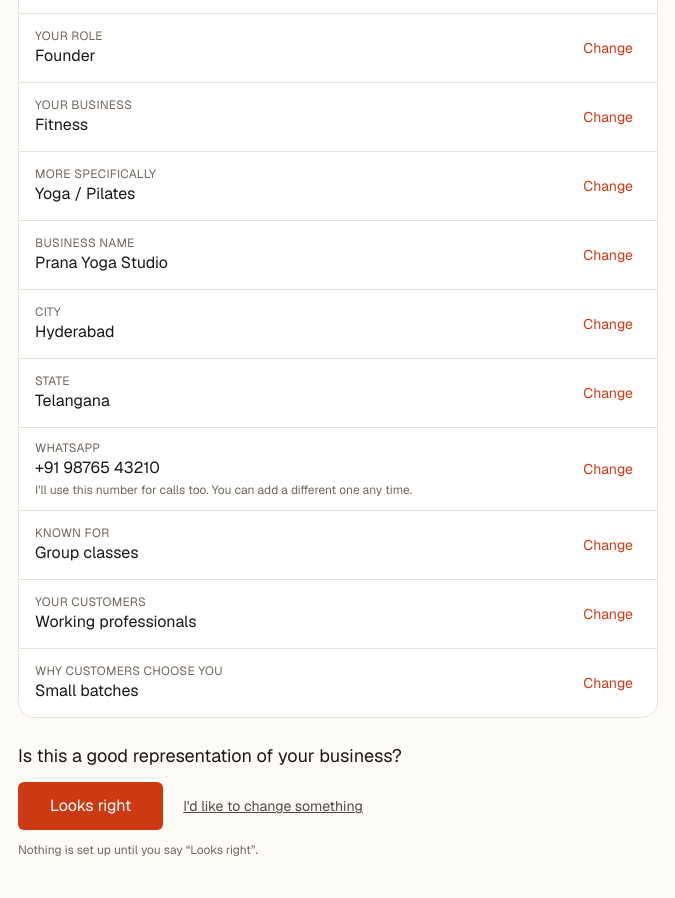
Scenario: review and confirm › when confirming fails › never shows a raw technical error
(page scrolled)
Click the button "Looks right" at (91, 806), box [18,782,163,830]
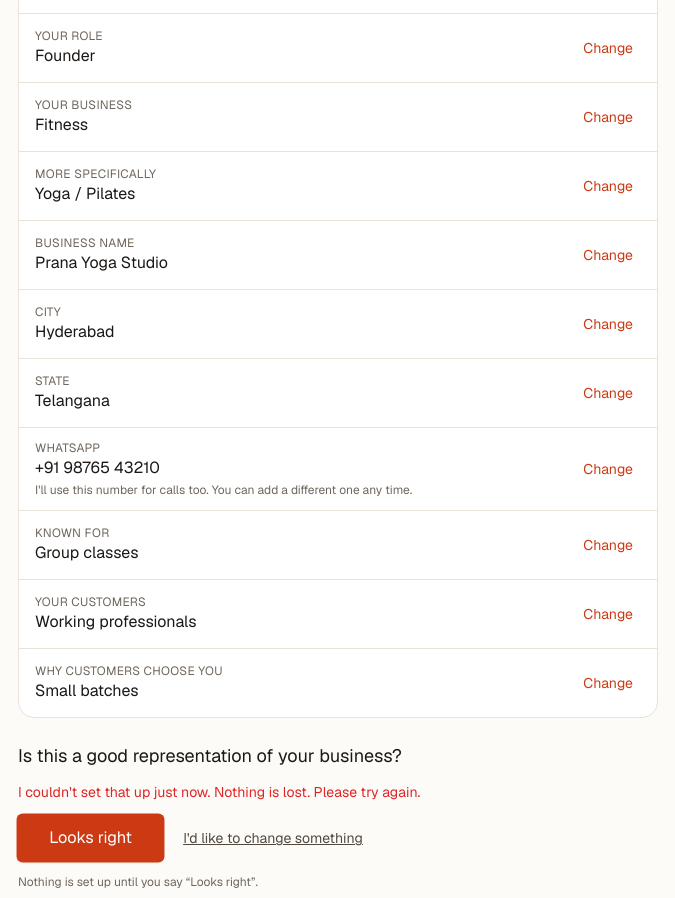
Expected: the message shows "Nothing is lost", [18,783,420,801]
